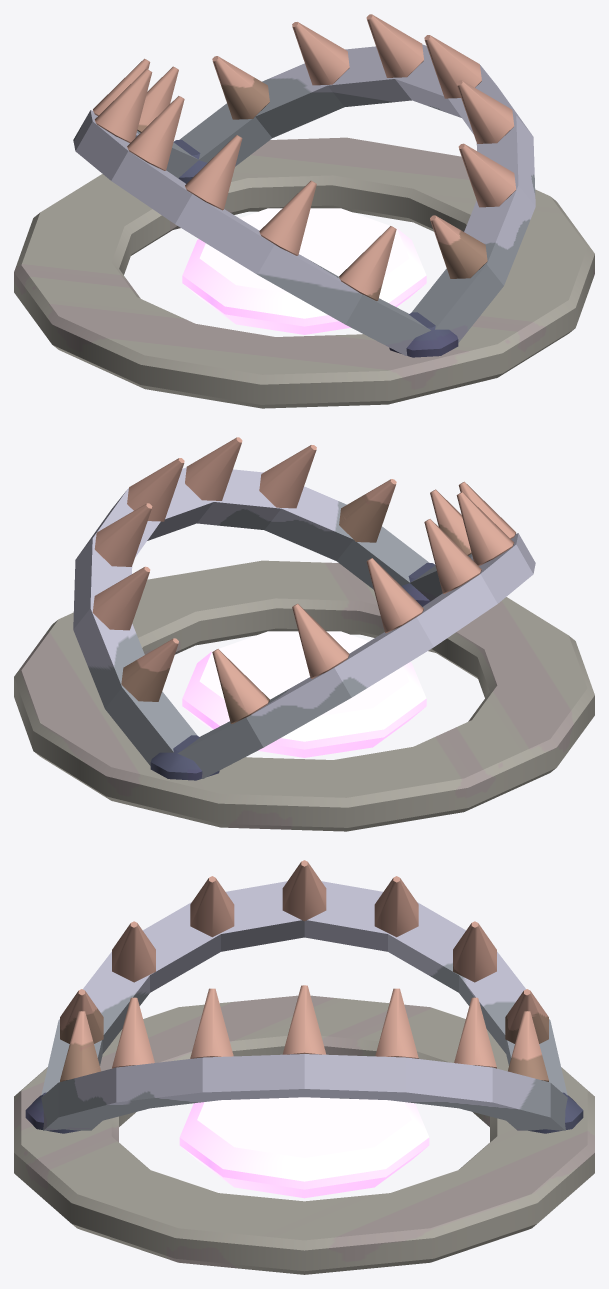
File: R4D_SnareTrap_LOD1.glb
3 renders of one model, top to bottom at view 1: azimuth 30°, elevation 25°; view 2: azimuth 150°, elevation 25°; view 3: azimuth 270°, elevation 25°, orthographic. The views are drawn at different scales.
Parts seen in each view (by area): view 1: R4D_SnareTrap_LOD1; view 2: R4D_SnareTrap_LOD1; view 3: R4D_SnareTrap_LOD1.
Boxes of the visible parts, <box> form: R4D_SnareTrap_LOD1: <box>14,14,594,408</box>; R4D_SnareTrap_LOD1: <box>14,437,594,831</box>; R4D_SnareTrap_LOD1: <box>14,860,594,1274</box>.
Size of the model in its own units: 0.47 by 0.1997 by 0.4582.
Materials: 5 (4 with a texture image).
